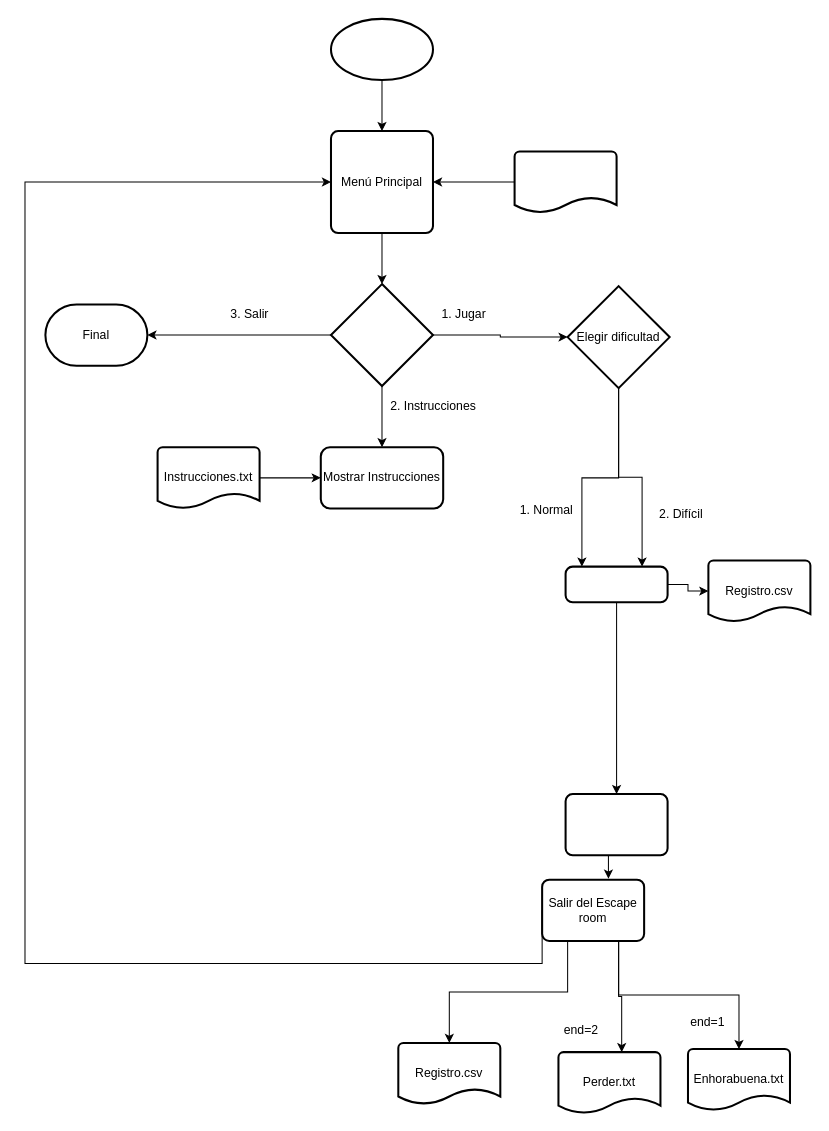
This 829x1131 diagram has some shape labels left out. The box of each missing label's shape, as (x1, y1, x2, y2) in pixels:
Bienvenida.txt: (513, 150, 617, 213)
Inicio: (329, 17, 434, 81)
Insertar Nombre: (564, 565, 668, 603)
Jugar: (564, 793, 668, 856)
¿Qué desea hacer?: (329, 283, 434, 387)
